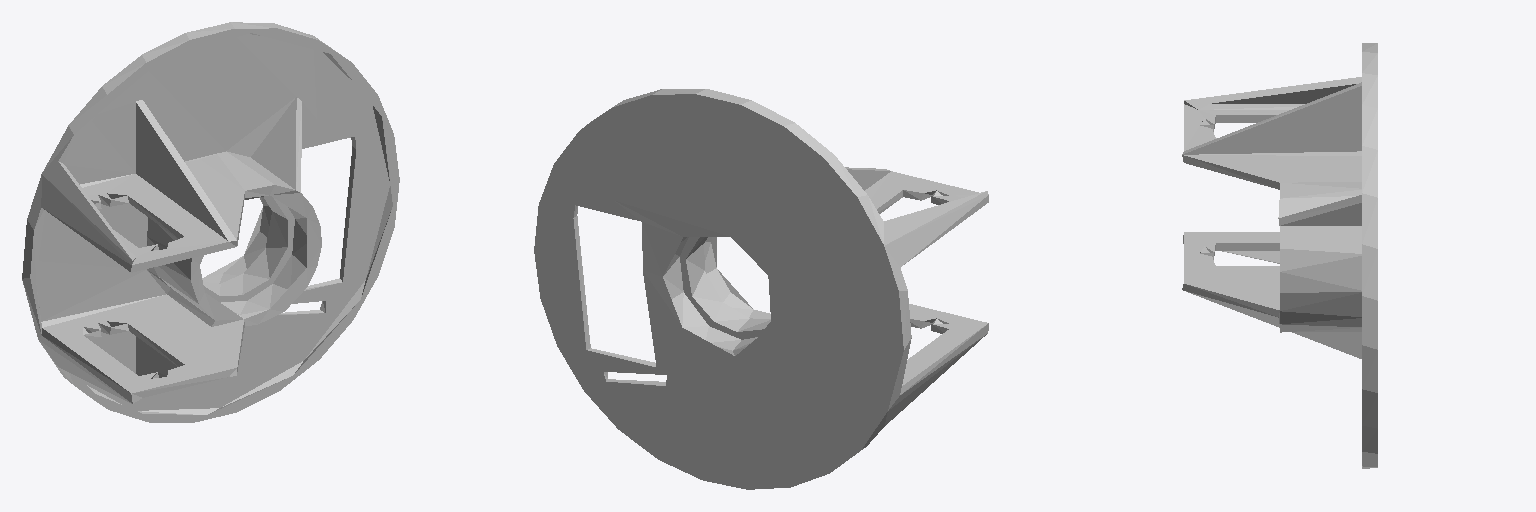
The model's file is SurfaceModel.obj.
The picture shows the model from 3 angles: view 1: azimuth 30°, elevation 25°; view 2: azimuth 150°, elevation 25°; view 3: azimuth 270°, elevation 25°; orthographic projection.
Size of the model in its own units: 16.04 by 15.96 by 7.37.